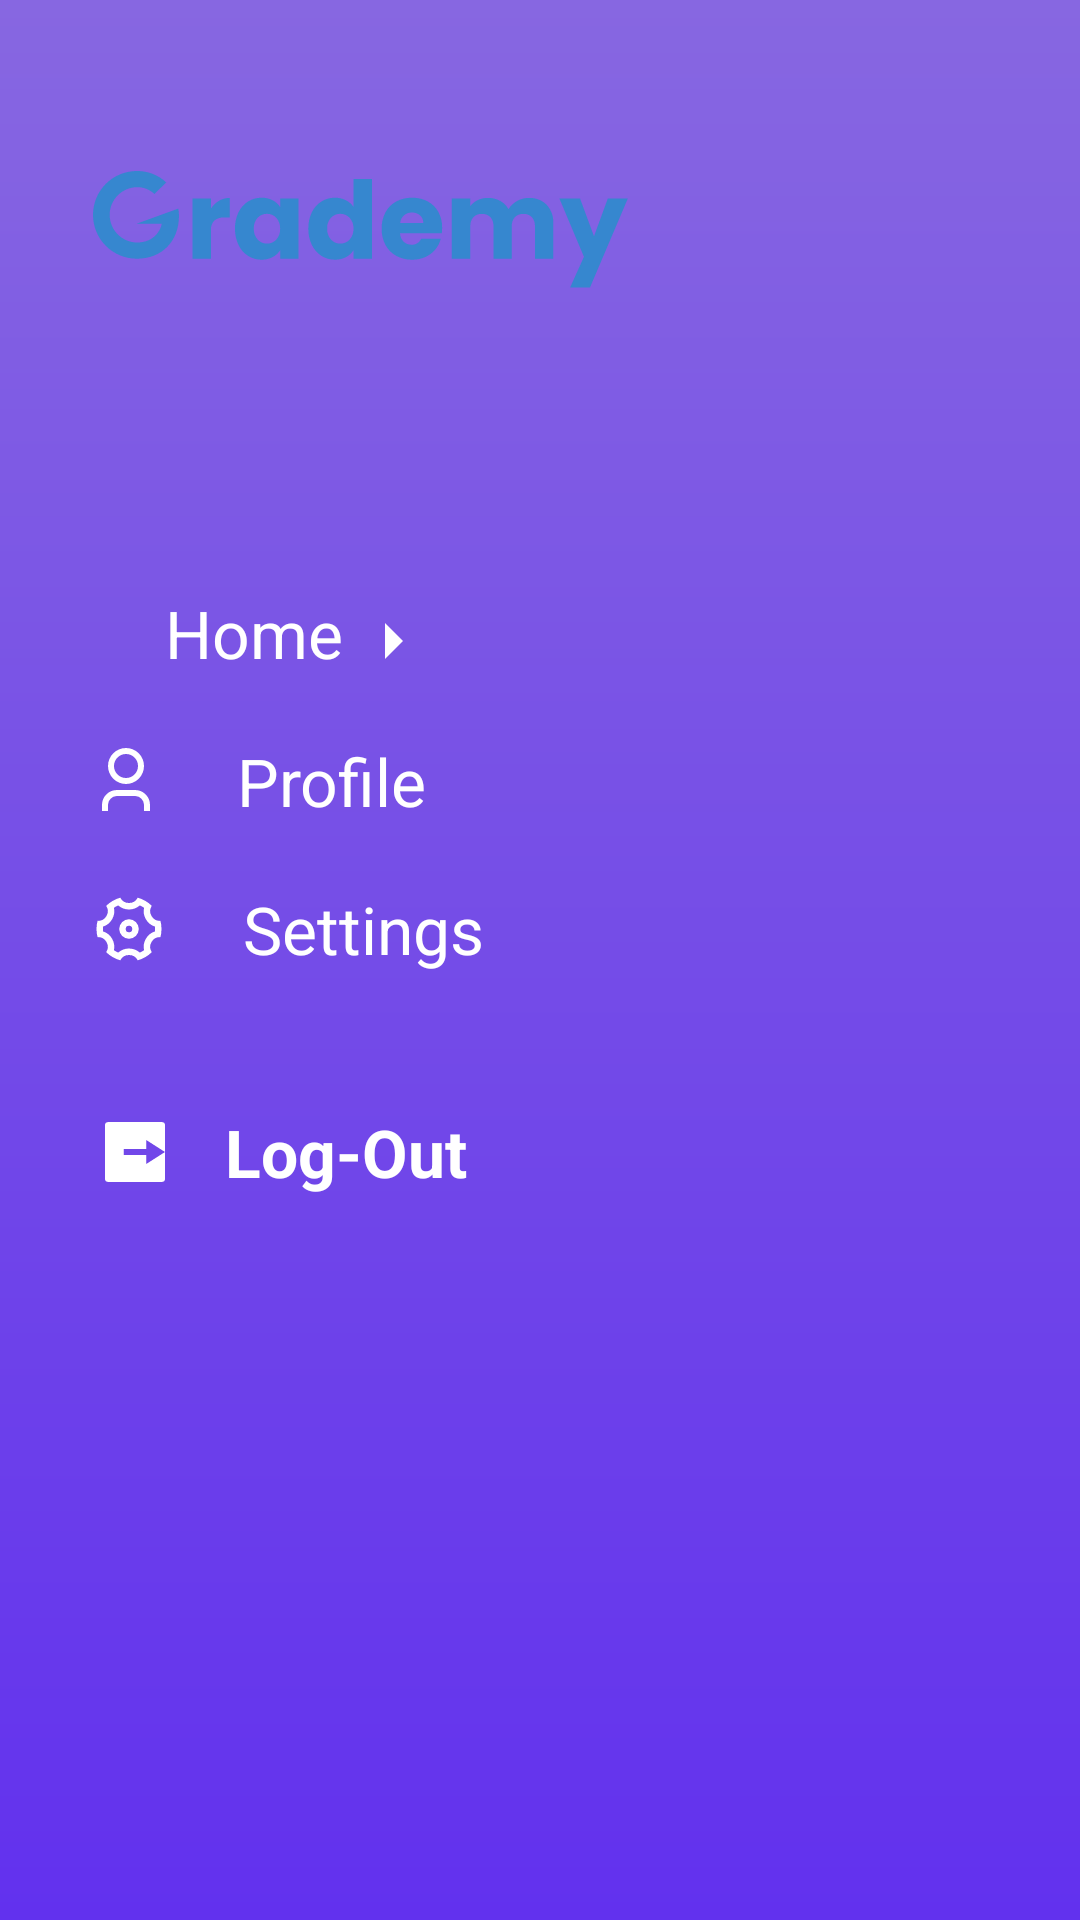

Named icons in this screenshot (1080 × 1920) and their bounding boxes, bbox=(x1, y1, x2, y2):
right: bbox=(385, 623, 403, 659)
